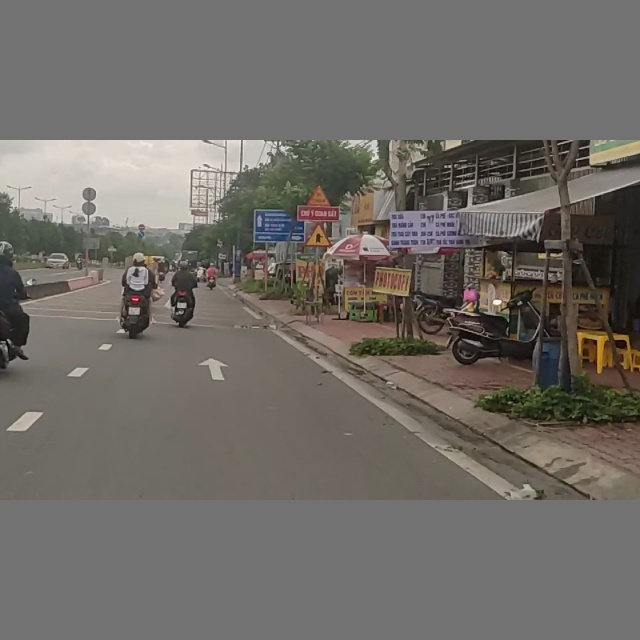W.207: (304, 221, 333, 247)
